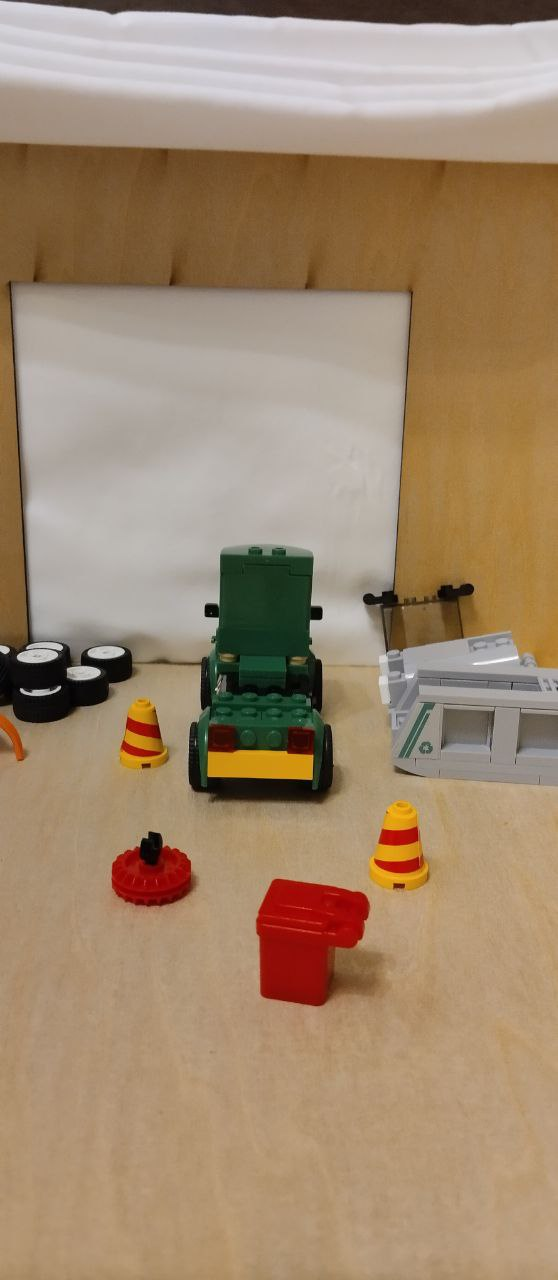Cone: (365, 802, 437, 891), (113, 697, 168, 772)
Object Red: (249, 874, 373, 1010)
Truck: (182, 538, 339, 799)
